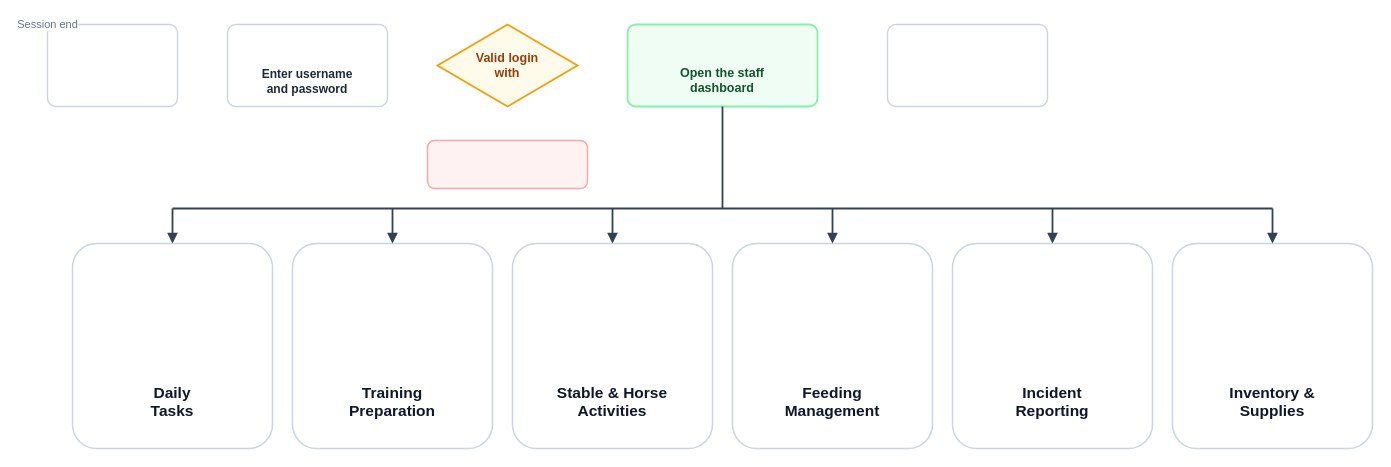
Image size: 1391x467. Some labels were removed from this diagram. Here are the shapes that lost their labels. From the top down, the centre of each, then its label:
At point (112, 65): "Stable staff".
At point (967, 65): "Log out Revoke the session".
At point (507, 164): "Access denied Check login details".
